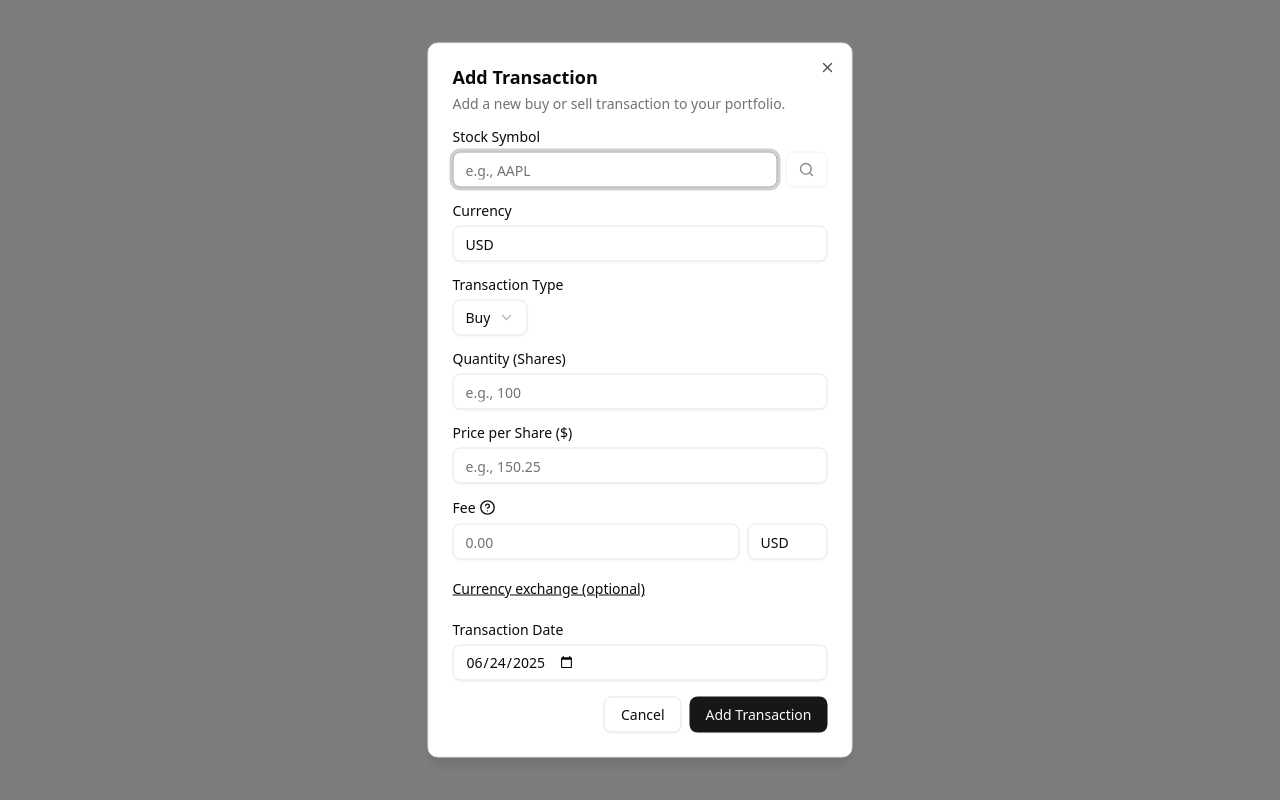
Scenario: auto-populates price after successful search
The image size is (1280, 800).
Type "AAPL" into the field with placeholder "e.g., AAPL" at [615, 170], box [452, 152, 778, 188]
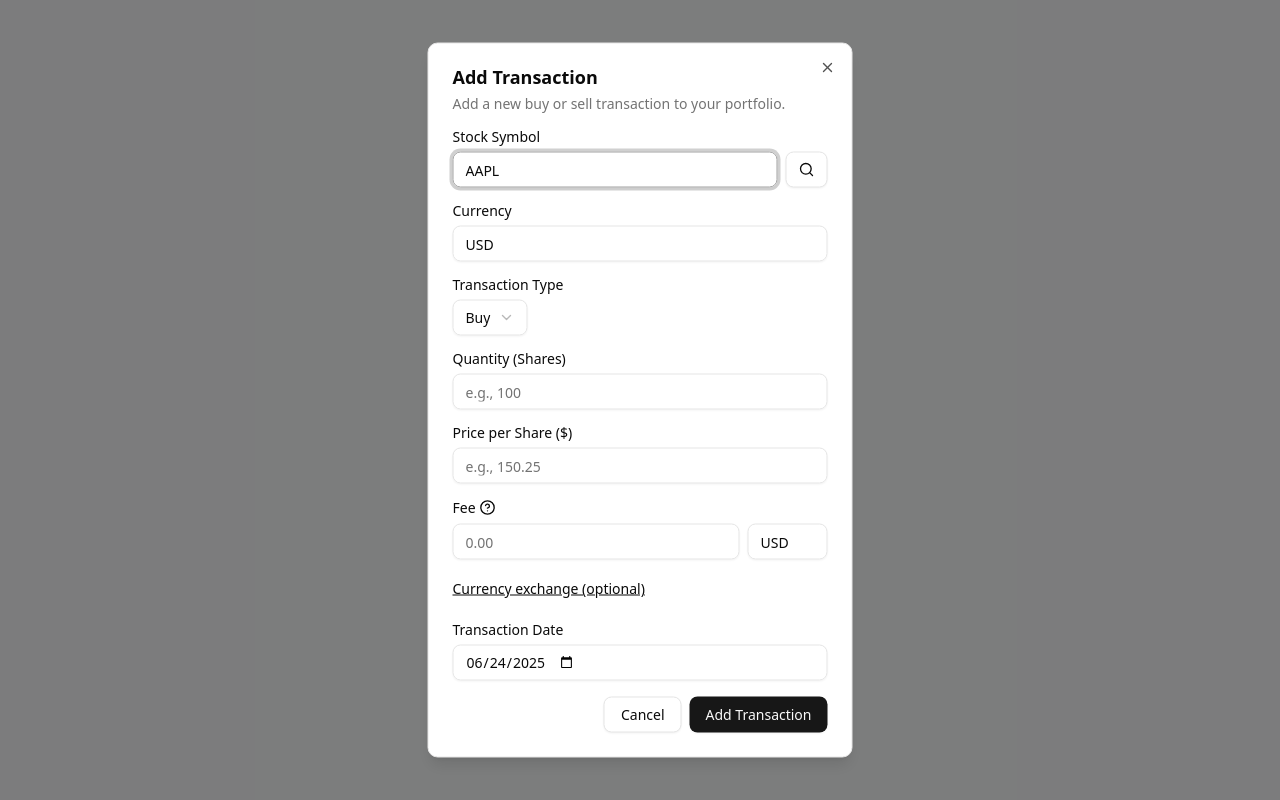
Click the button without text below "Stock Symbol" at [806, 170], box [786, 152, 828, 188]
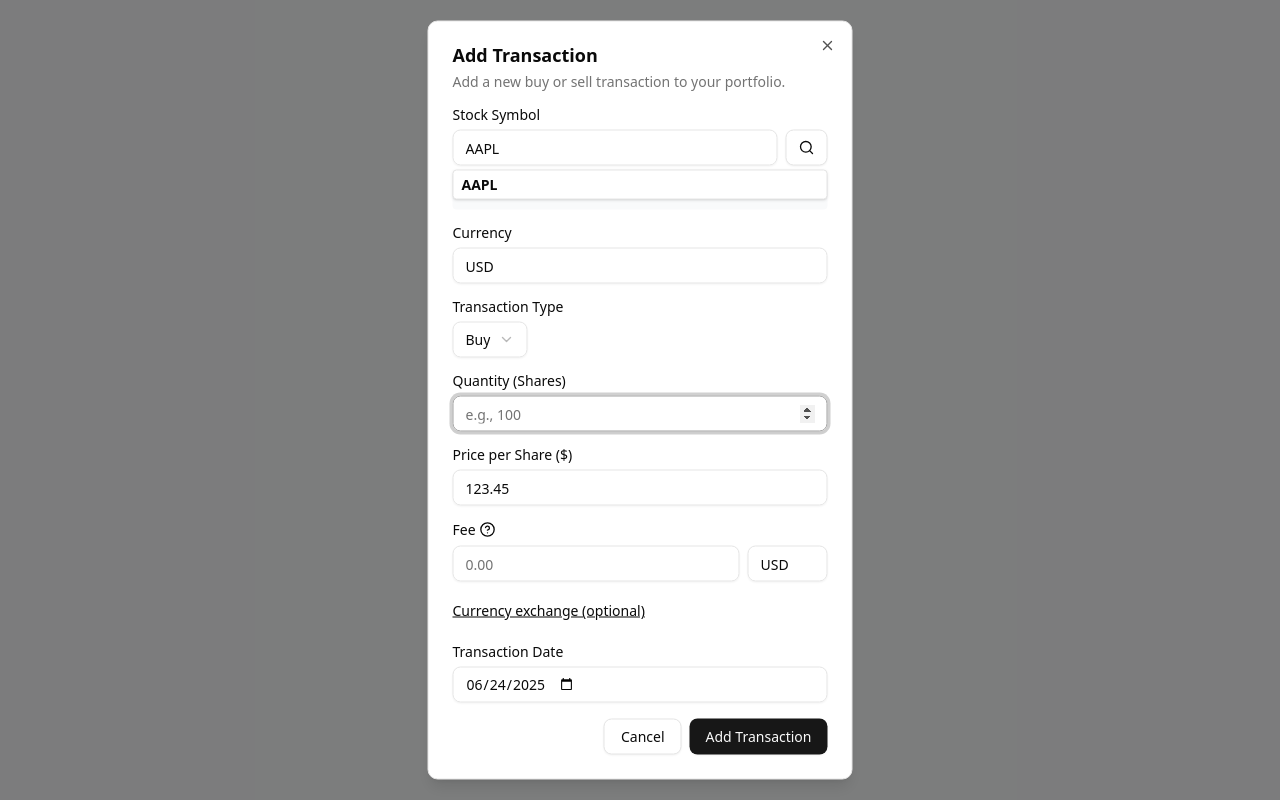
Result: the number field labelled "Price per Share ($)" holds "123.45" at [452, 470, 828, 506]
